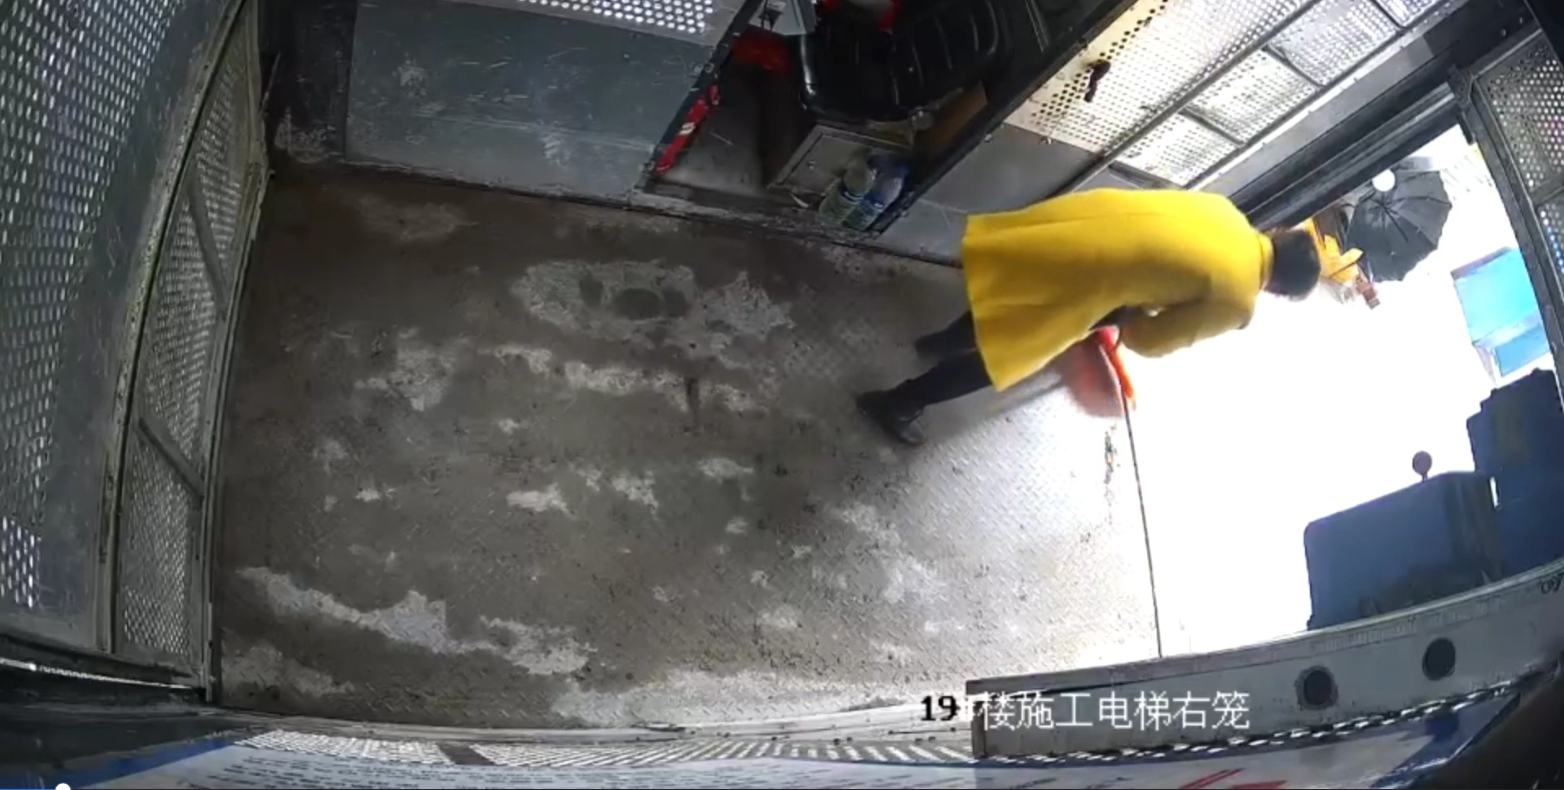person: (858, 185, 1322, 452)
